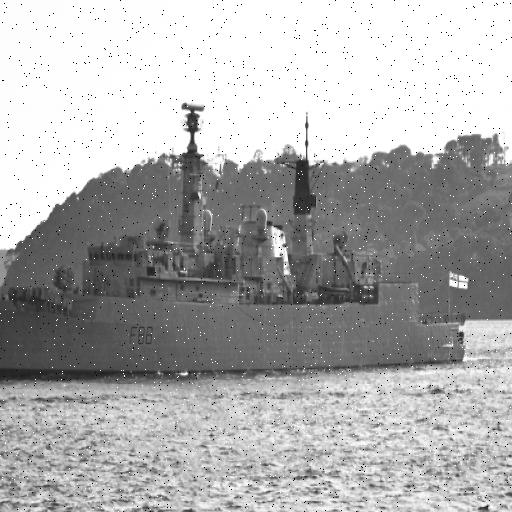Fragata: (1, 99, 472, 389)
